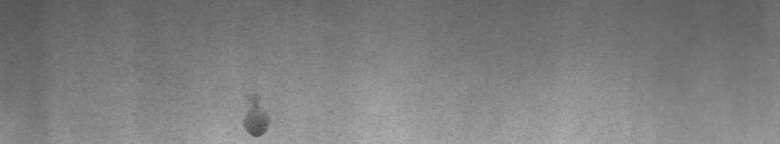fi: (235, 94, 275, 136)
